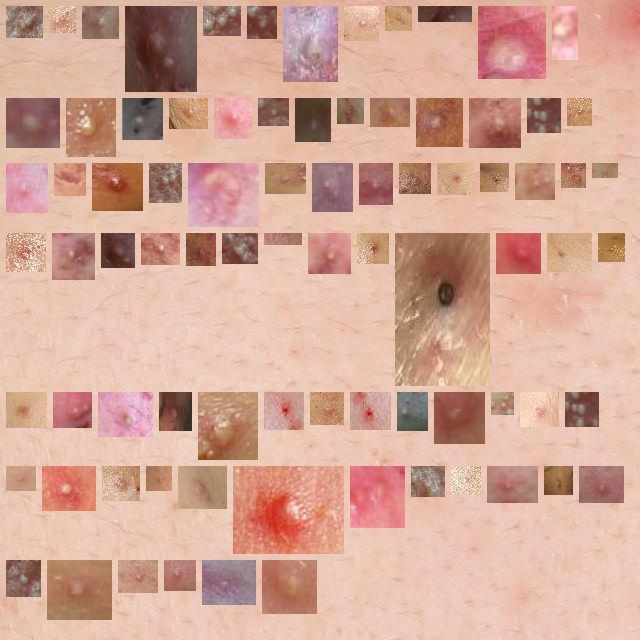pustule: (403, 241, 482, 378), (241, 474, 336, 546), (133, 14, 189, 84), (486, 14, 538, 71), (196, 168, 251, 219), (291, 14, 330, 74), (206, 400, 250, 452), (55, 568, 104, 612), (358, 474, 397, 520), (270, 568, 309, 606), (74, 106, 108, 149), (14, 106, 52, 140), (442, 400, 477, 436), (477, 106, 513, 140), (106, 400, 145, 429), (100, 171, 135, 203), (50, 474, 88, 503), (210, 568, 248, 597), (424, 106, 455, 139), (186, 474, 219, 501), (14, 171, 40, 205), (60, 241, 87, 272), (320, 171, 345, 204), (495, 474, 530, 495), (127, 106, 155, 132), (504, 241, 533, 266), (316, 241, 343, 266), (555, 241, 584, 264), (587, 474, 616, 495), (303, 106, 323, 134), (14, 241, 38, 264), (222, 106, 244, 131), (358, 400, 383, 422), (397, 400, 420, 423), (272, 400, 296, 422), (378, 98, 402, 119), (523, 171, 547, 192), (14, 400, 39, 420), (367, 171, 385, 197), (61, 400, 84, 420), (528, 400, 551, 419), (110, 474, 132, 493), (157, 171, 174, 195), (126, 568, 150, 585), (14, 568, 33, 589), (167, 400, 184, 423), (560, 14, 570, 52), (273, 171, 298, 186), (149, 241, 172, 257), (352, 14, 371, 33), (90, 14, 111, 31), (177, 106, 200, 121), (535, 106, 553, 125), (109, 241, 127, 260), (573, 400, 591, 419), (14, 14, 35, 30), (445, 171, 466, 187), (211, 14, 233, 28), (318, 400, 336, 417), (230, 241, 250, 256), (62, 171, 78, 188), (419, 474, 437, 489), (426, 14, 464, 21), (407, 171, 423, 186), (365, 241, 381, 256), (172, 568, 188, 583), (255, 14, 269, 31), (194, 241, 208, 258), (266, 106, 281, 118), (488, 171, 501, 184), (552, 474, 565, 487), (459, 474, 473, 486), (606, 241, 617, 254), (14, 474, 28, 483), (57, 14, 68, 25), (345, 106, 356, 116), (575, 106, 584, 118), (393, 14, 404, 23), (154, 474, 164, 483), (569, 171, 578, 180), (499, 400, 506, 407)
